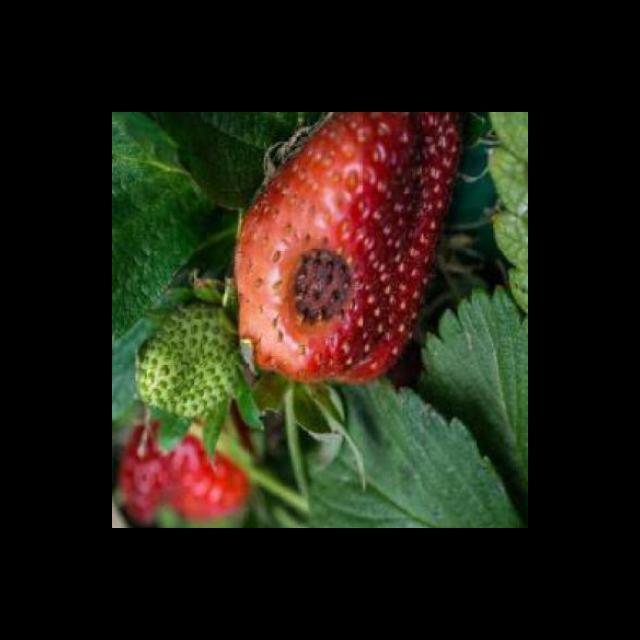Anthracnose Fruit Rot: (281, 242, 360, 327)
